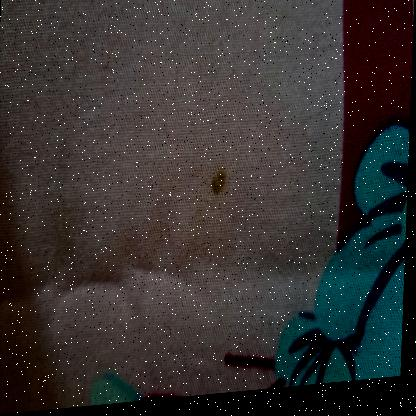spot: (200, 171, 233, 216)
